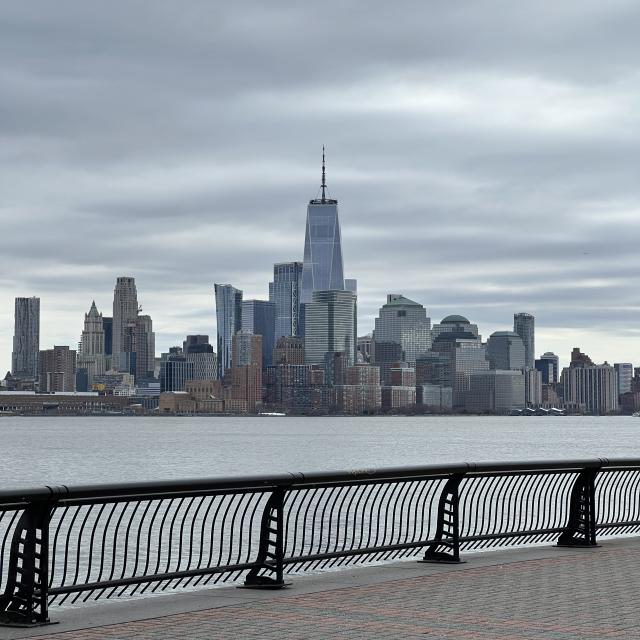WTC: (302, 143, 346, 293)
